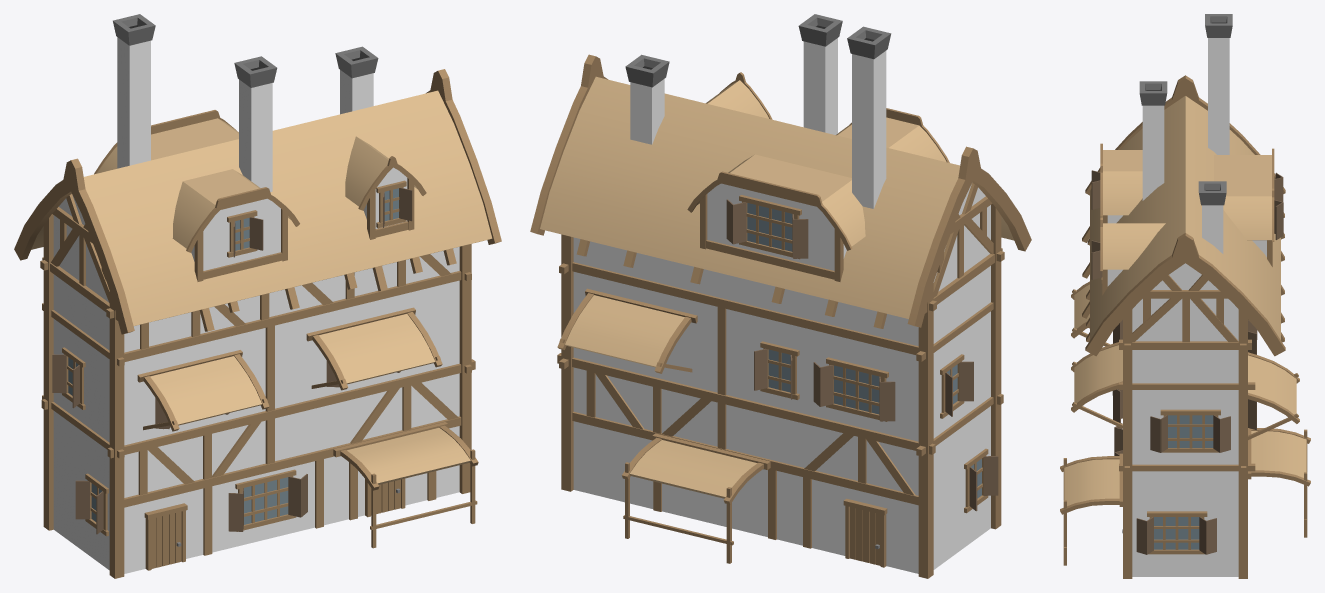
File: House_01.gltf
3 views of the same model, side by side, from view 1: azimuth 30°, elevation 25°; view 2: azimuth 150°, elevation 25°; view 3: azimuth 270°, elevation 25° (orthographic). The views are drawn at different scales.
Parts seen in each view (by area): view 1: pCube3448; view 2: pCube3448; view 3: pCube3448.
Part boxes in pixels (bbox=[...]): pCube3448: bbox=[14, 14, 501, 578]; pCube3448: bbox=[530, 14, 1031, 578]; pCube3448: bbox=[1060, 14, 1310, 578].
Size of the model in its own units: 17.95 by 22.81 by 11.83.
